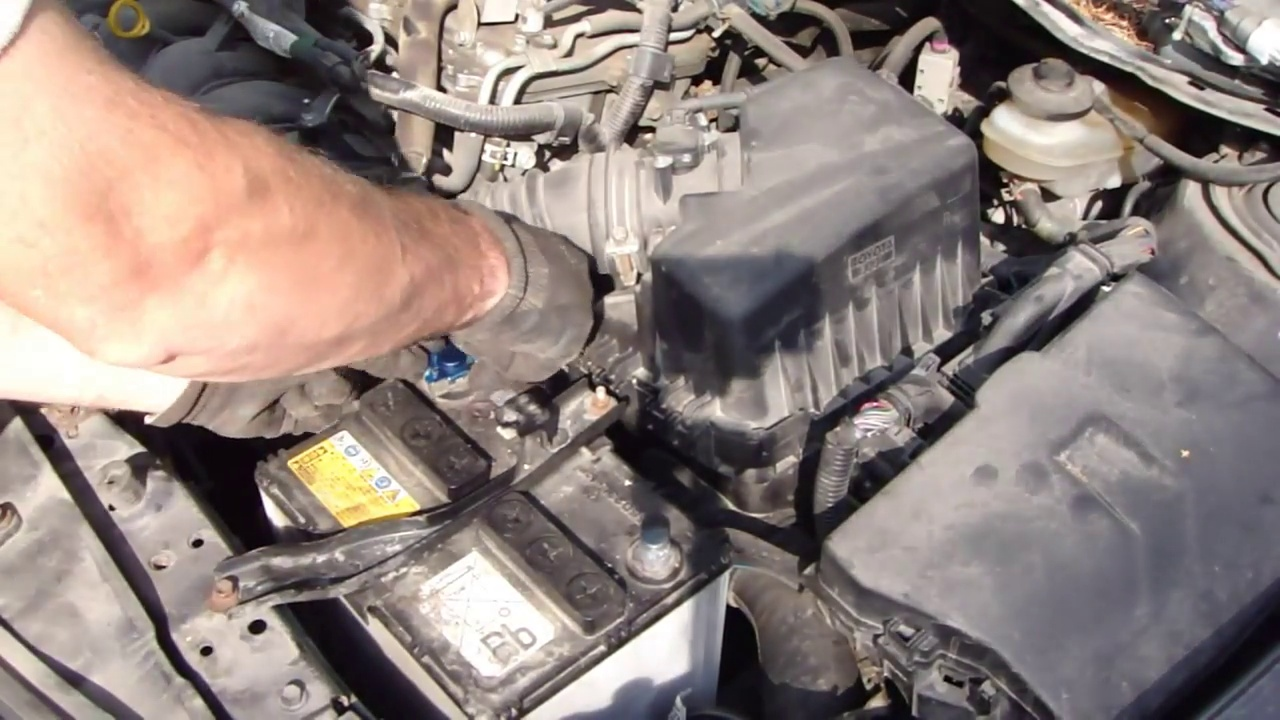battery: (253, 357, 730, 712)
